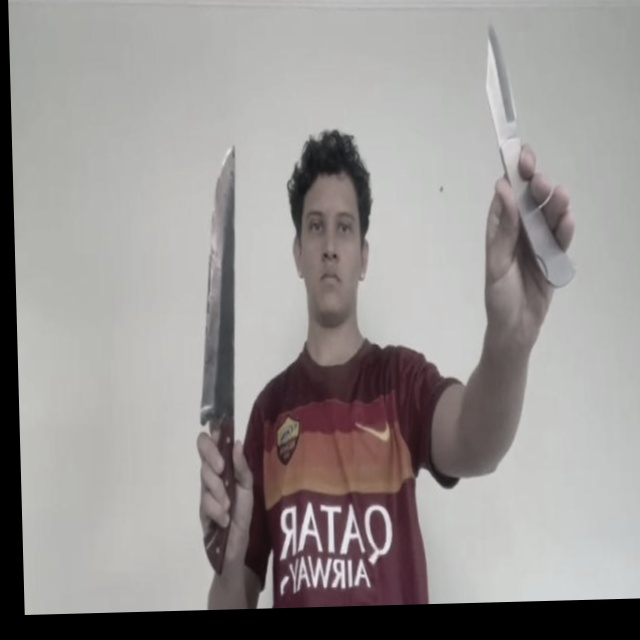Sharp-Object: (192, 143, 242, 424), (482, 21, 518, 133)
